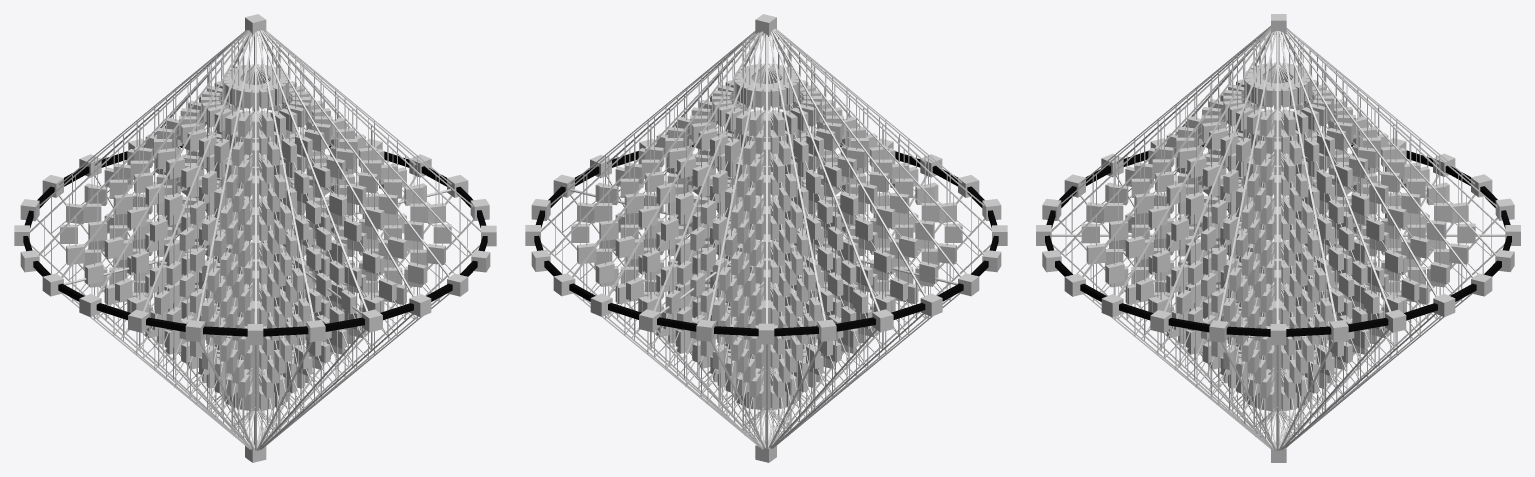
File: NewBegin.fbx
The picture shows the model from 3 angles, left to right: view 1: azimuth 30°, elevation 25°; view 2: azimuth 150°, elevation 25°; view 3: azimuth 270°, elevation 25°; orthographic projection.
Visible parts, largest first — view 1: Cylinder, Cube.140, Cube.296, Cube.921, Cube.922, Cube.414, Cube.025, Cube.375, Cube.532, Cube.026, Cube.102, Cube.804 (+23 smaller); view 2: Cylinder, Cube.920, Cube.764, Cube, Cube.687, Cube.570, Cube.141, Cube.532, Cube.028, Cube.531, Cube.180, Cube.882 (+22 smaller); view 3: Cylinder, Cube.610, Cube.454, Cube.374, Cube.218, Cube.765, Cube.297, Cube.336, Cube.648, Cube.492, Cube.804, Cube.686 (+23 smaller).
Part boxes in pixels (bbox=[...]): Cylinder: bbox=[23, 146, 487, 336]; Cube.140: bbox=[261, 58, 310, 438]; Cube.296: bbox=[200, 59, 249, 438]; Cube.921: bbox=[260, 30, 414, 450]; Cube.922: bbox=[272, 54, 405, 436]; Cube.414: bbox=[97, 31, 250, 449]; Cube.025: bbox=[258, 31, 367, 449]; Cube.375: bbox=[143, 32, 251, 449]; Cube.532: bbox=[72, 51, 235, 433]; Cube.026: bbox=[267, 55, 361, 437]; Cube.102: bbox=[256, 31, 314, 450]; Cube.804: bbox=[261, 30, 450, 447]; Cylinder: bbox=[534, 145, 998, 336]; Cube.920: bbox=[712, 57, 761, 438]; Cube.764: bbox=[773, 58, 822, 437]; Cube: bbox=[653, 31, 765, 449]; Cube.687: bbox=[768, 31, 879, 448]; Cube.570: bbox=[772, 30, 925, 448]; Cube.141: bbox=[607, 32, 761, 447]; Cube.532: bbox=[787, 50, 950, 432]; Cube.028: bbox=[660, 55, 754, 437]; Cube.531: bbox=[773, 29, 961, 448]; Cube.180: bbox=[572, 32, 758, 446]; Cube.882: bbox=[708, 33, 765, 448]; Cylinder: bbox=[1045, 145, 1511, 336]; Cube.610: bbox=[1222, 53, 1271, 439]; Cube.454: bbox=[1283, 57, 1333, 439]; Cube.374: bbox=[1289, 54, 1384, 438]; Cube.218: bbox=[1298, 49, 1462, 434]; Cube.765: bbox=[1117, 31, 1270, 448]; Cube.297: bbox=[1284, 34, 1437, 448]; Cube.336: bbox=[1281, 32, 1390, 449]; Cube.648: bbox=[1164, 32, 1273, 449]; Cube.492: bbox=[1276, 31, 1278, 450]; Cube.804: bbox=[1082, 28, 1270, 448]; Cube.686: bbox=[1171, 54, 1265, 439].
Size of the model in its own units: 798 by 804 by 798.
1 material, 1 textured.
